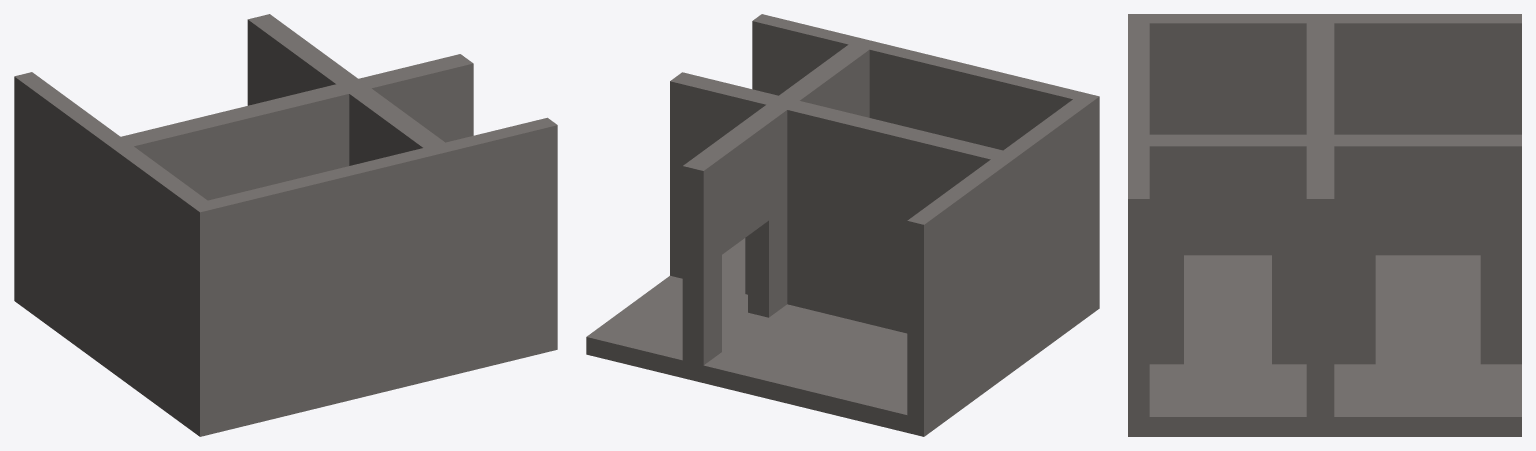
The model's file is SudEst.fbx.
3 renders of one model, left to right at view 1: azimuth 30°, elevation 25°; view 2: azimuth 150°, elevation 25°; view 3: azimuth 270°, elevation 25°, orthographic. The views are drawn at different scales.
Visible parts, largest first — view 1: SudEst; view 2: SudEst; view 3: SudEst.
Part boxes in pixels (bbox=[...]): SudEst: bbox=[14, 14, 557, 436]; SudEst: bbox=[586, 14, 1099, 436]; SudEst: bbox=[1128, 14, 1521, 436].
Size of the model in its own units: 10.81 by 6.49 by 9.73.
